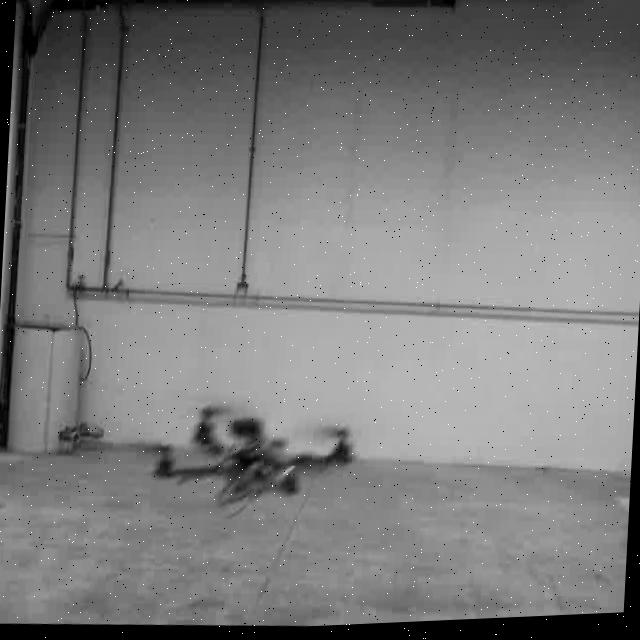drone: (147, 390, 355, 517)
